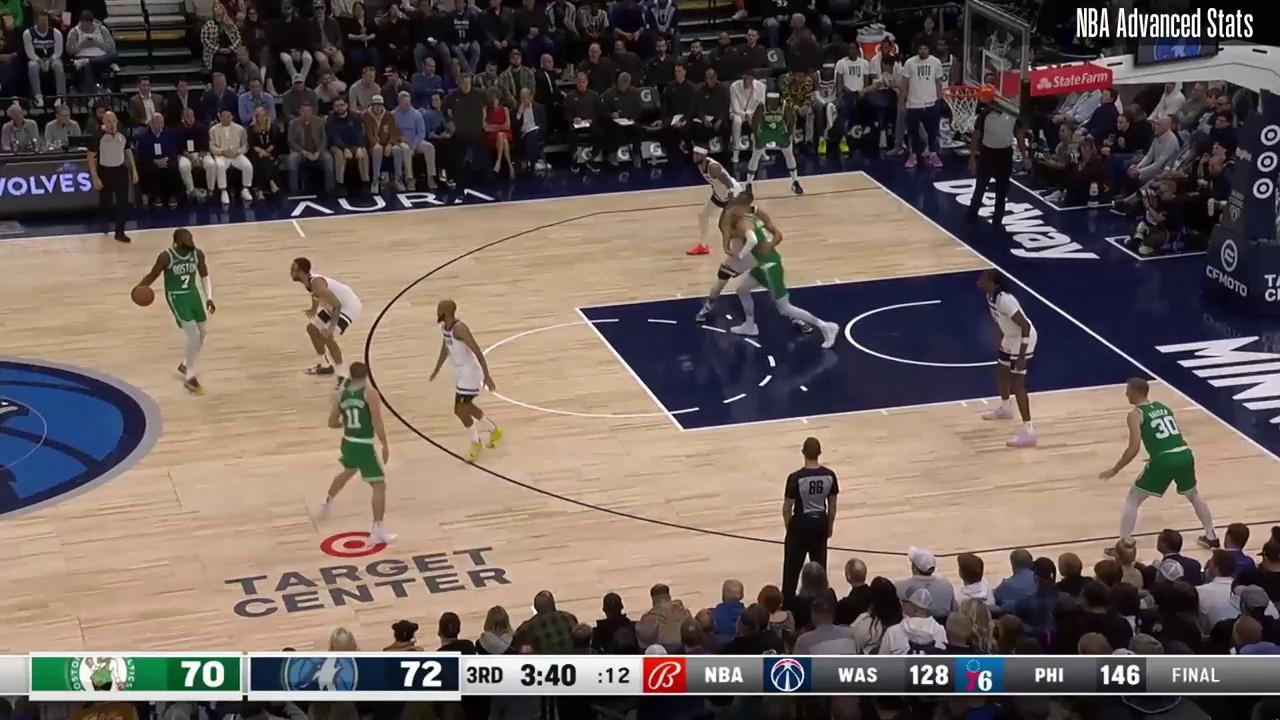3_sx: (878, 182, 889, 191)
b_sx: (857, 167, 868, 177)
free_adx: (674, 421, 691, 438)
free_asx: (571, 303, 583, 315)
free_bdx: (1152, 373, 1168, 387)
free_bsx: (989, 260, 1005, 274)
mid_dx: (527, 602, 537, 611)
mid_sx: (297, 230, 310, 243)
referee: (779, 436, 845, 595), (86, 112, 140, 246), (962, 102, 1017, 232)
team: (1097, 377, 1221, 554), (314, 359, 399, 549), (132, 228, 223, 397), (732, 206, 837, 352), (739, 86, 806, 195)
team1: (701, 189, 808, 331), (428, 299, 505, 466), (976, 265, 1046, 447), (286, 256, 366, 374), (689, 141, 745, 256)
timer: (510, 653, 582, 696)
